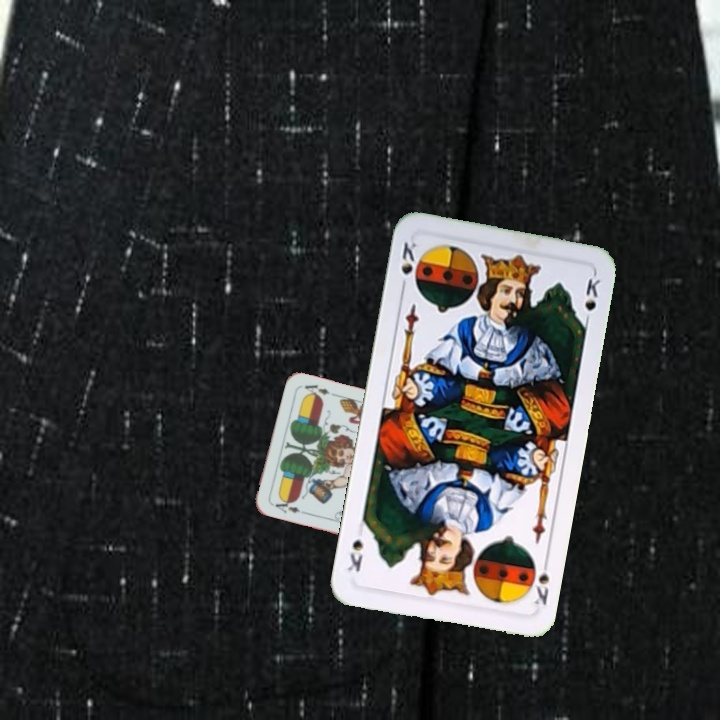EA: (271, 494, 308, 516)
SK: (397, 238, 419, 294), (530, 554, 552, 608)
